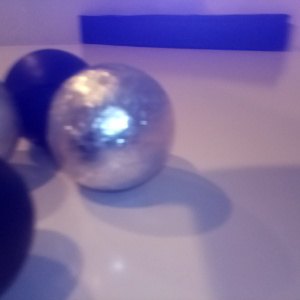alive_ball: (47, 64, 175, 192), (1, 78, 21, 162)
dead_ball: (5, 47, 89, 147), (1, 156, 34, 294)
